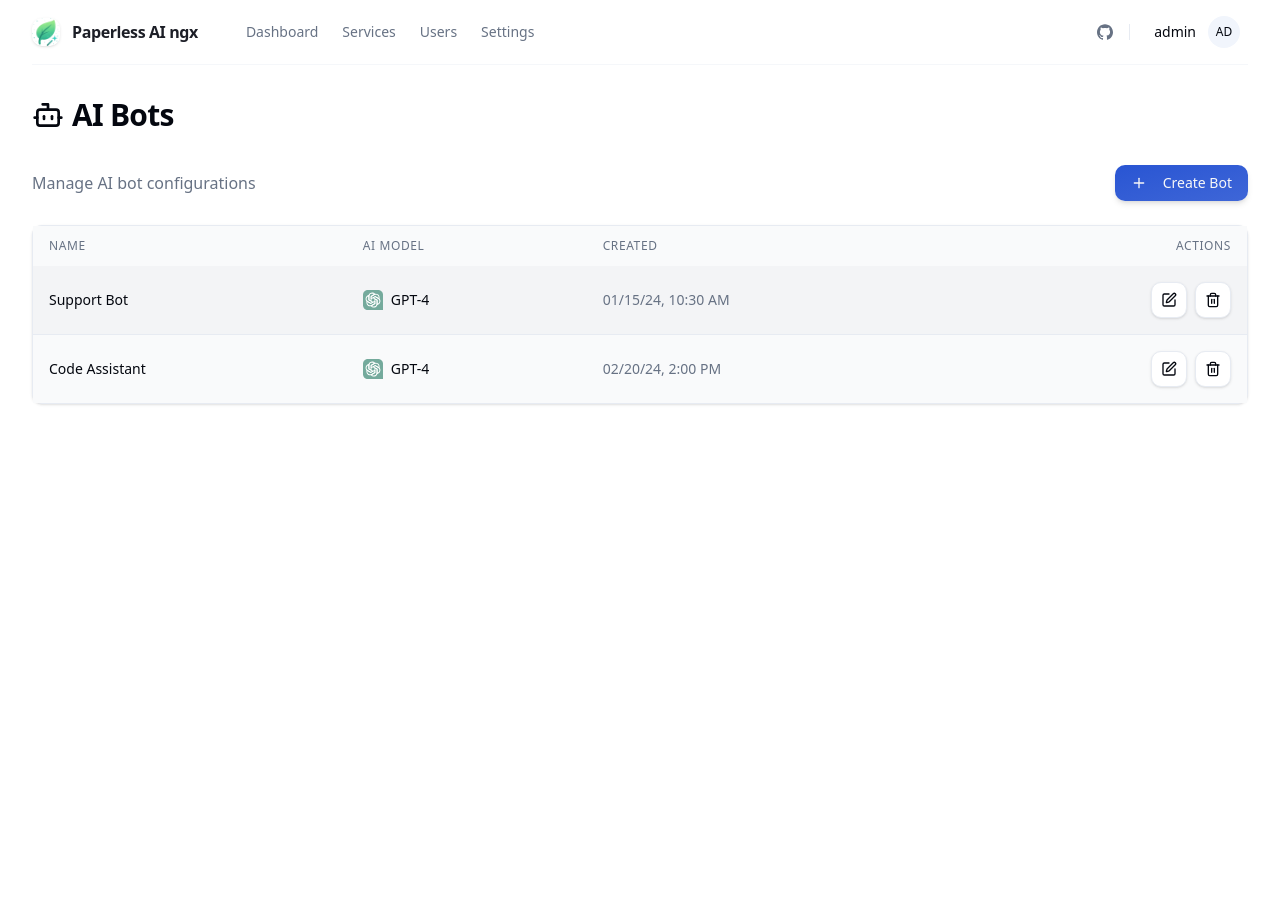
Test: AiBotsPage › opens create dialog when clicking create button
This screenshot has width=1280, height=900.
Click the button "Create Bot" at (1181, 183), box [1115,165,1248,201]
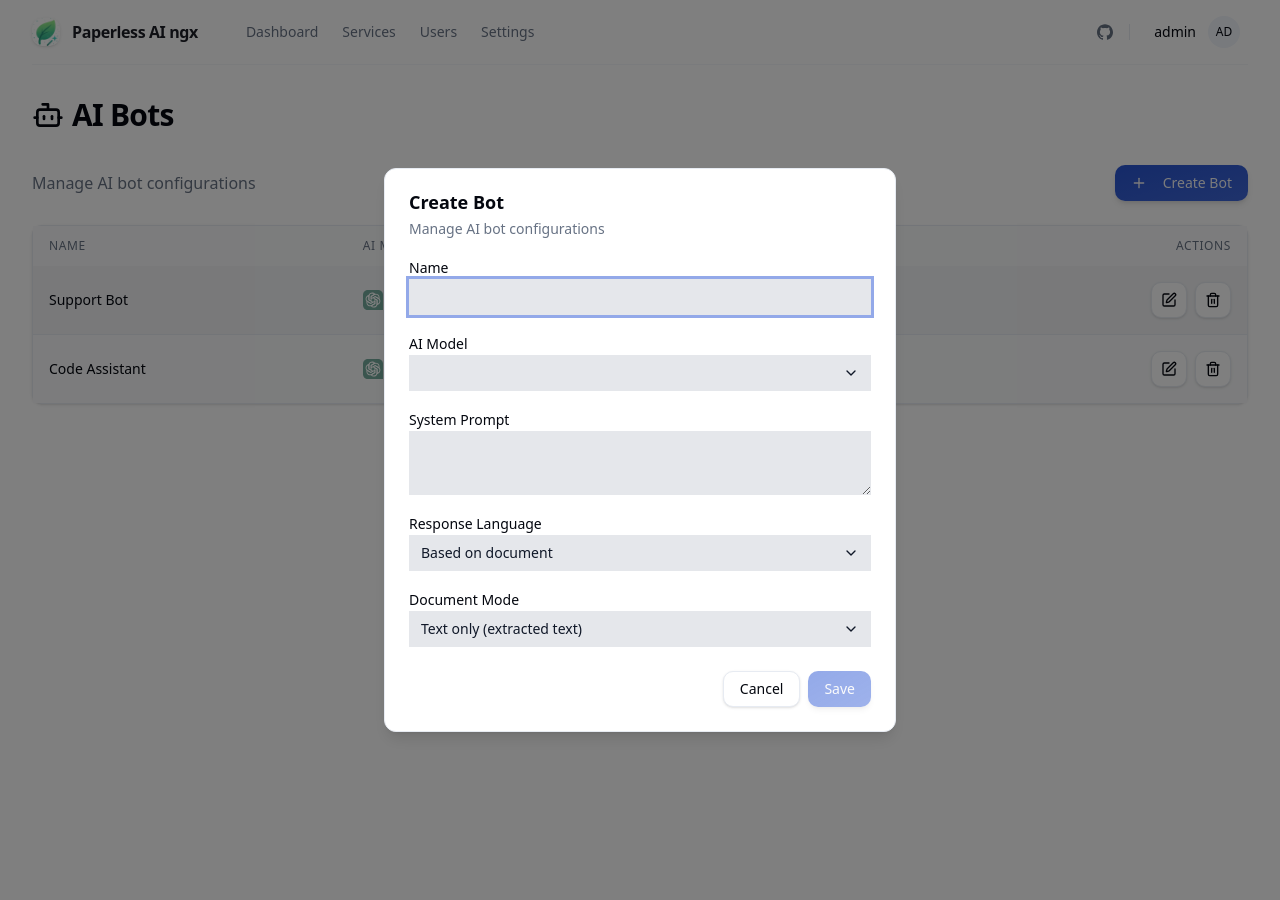
Now the dialog is shown, box [384,168,896,732]
